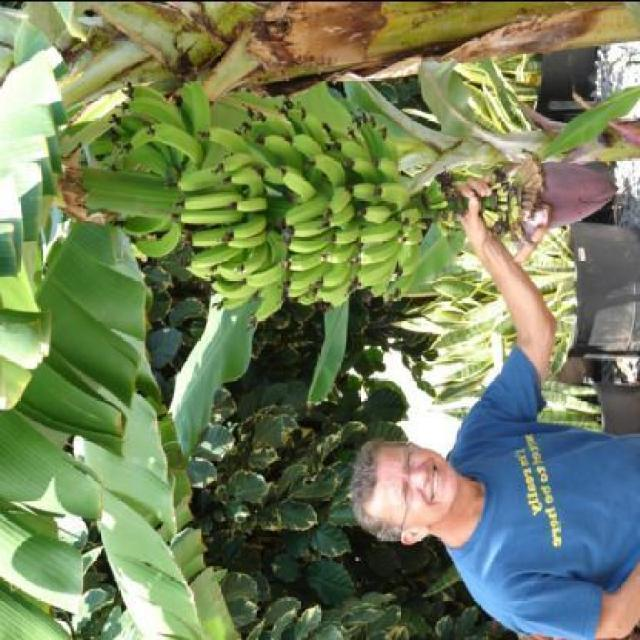Banana: (106, 82, 426, 326), (306, 153, 346, 184)
